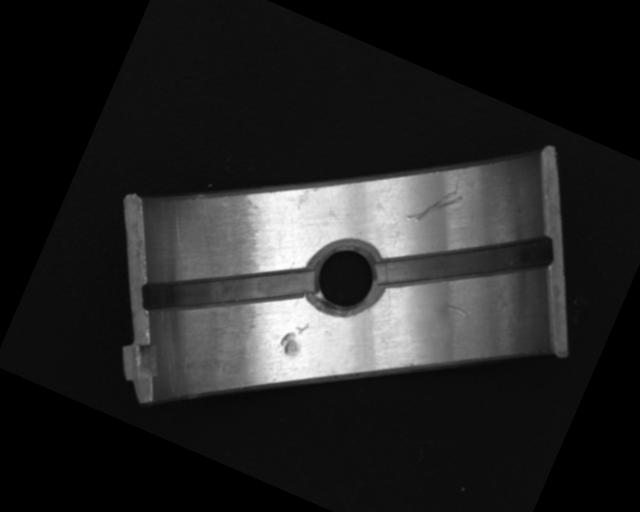bruise: (276, 315, 311, 361)
gap: (373, 180, 561, 342), (137, 211, 316, 365)
hole: (299, 232, 395, 328)
nick: (405, 176, 465, 238), (442, 301, 469, 316)
